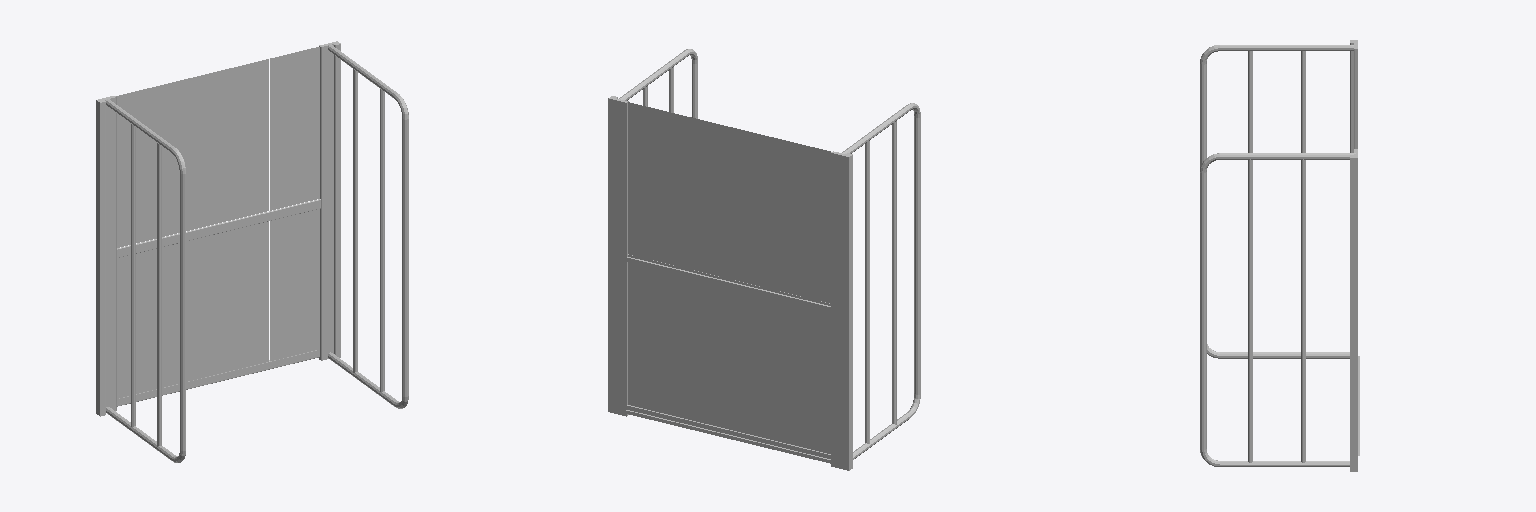
The model's file is Bridge_Short.obj.
3 views of the same model, side by side, from view 1: azimuth 30°, elevation 25°; view 2: azimuth 150°, elevation 25°; view 3: azimuth 270°, elevation 25° (orthographic).
Parts seen in each view (by area): view 1: 01; view 2: 01; view 3: 01.
Boxes of the visible parts, x1,y1,x2,y2 form: 01: [96, 41, 408, 462]; 01: [608, 49, 920, 470]; 01: [1200, 40, 1359, 471].
Size of the model in its own units: 1.64 by 2.04 by 0.945.